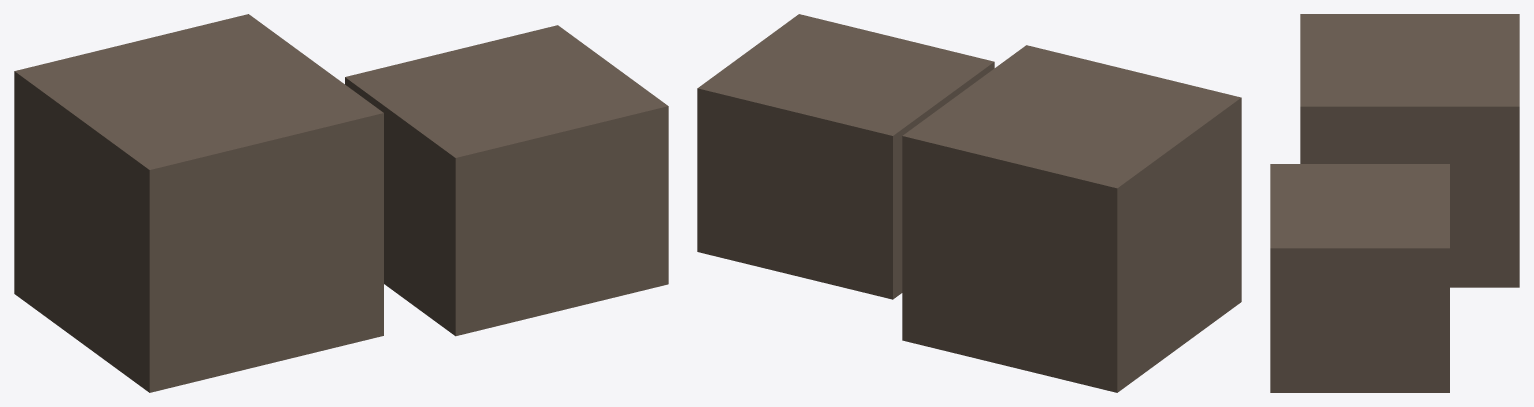
Rendered from hd2d_market_prop_crates.glb.
The picture shows the model from 3 angles, left to right: view 1: azimuth 30°, elevation 25°; view 2: azimuth 150°, elevation 25°; view 3: azimuth 270°, elevation 25°; orthographic projection. The views are drawn at different scales.
Parts seen in each view (by area): view 1: CrateA, CrateB; view 2: CrateA, CrateB; view 3: CrateA, CrateB.
Part boxes in pixels (<box>): CrateA: <box>14,14,383,392</box>; CrateB: <box>345,25,668,336</box>; CrateA: <box>902,45,1241,392</box>; CrateB: <box>697,14,994,299</box>; CrateA: <box>1300,14,1519,287</box>; CrateB: <box>1270,164,1449,392</box>.
Bounding box in the file's own units: 0.94 × 0.4 × 0.5.
